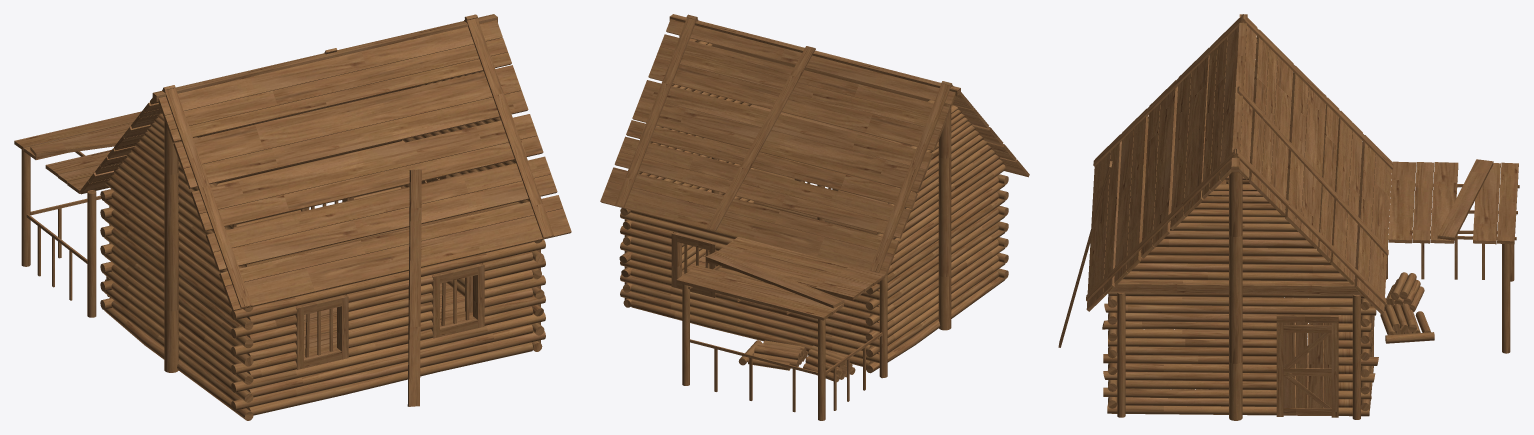
Rendered from Wood_house.obj.
3 views of the same model, side by side, from view 1: azimuth 30°, elevation 25°; view 2: azimuth 150°, elevation 25°; view 3: azimuth 270°, elevation 25° (orthographic). The views are drawn at different scales.
Visible parts, largest first — view 1: Wood_house; view 2: Wood_house; view 3: Wood_house.
Boxes of the visible parts, left/top/right/bottom form: Wood_house: left=14, top=14, right=571, bottom=420; Wood_house: left=600, top=14, right=1029, bottom=420; Wood_house: left=1058, top=14, right=1519, bottom=420.
Size of the model in its own units: 6.67 by 5.34 by 8.45.
Materials: 1 (1 with a texture image).
